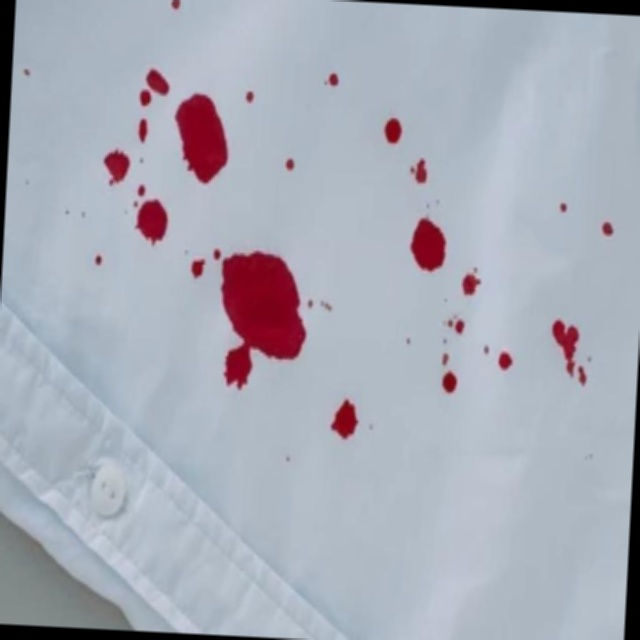blood: (378, 209, 530, 404), (94, 68, 233, 250), (209, 242, 315, 395)
